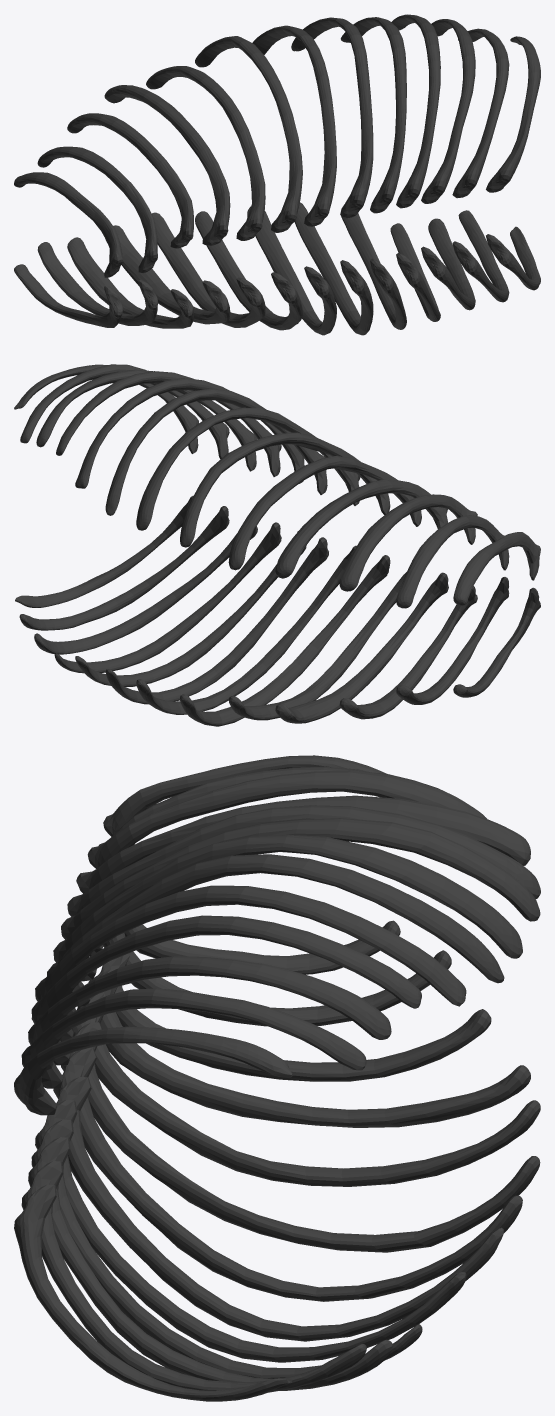
Rendered from 23_2_24_rib_cage_skin_resized_LP.glb.
3 renders of one model, top to bottom at view 1: azimuth 30°, elevation 25°; view 2: azimuth 150°, elevation 25°; view 3: azimuth 270°, elevation 25°, orthographic. The views are drawn at different scales.
Visible parts, largest first — view 1: 23_2_24_rib_cage_skin_resized_LP; view 2: 23_2_24_rib_cage_skin_resized_LP; view 3: 23_2_24_rib_cage_skin_resized_LP.
Boxes of the visible parts, x1,y1,x2,y2 form: 23_2_24_rib_cage_skin_resized_LP: [14, 14, 540, 335]; 23_2_24_rib_cage_skin_resized_LP: [14, 364, 540, 726]; 23_2_24_rib_cage_skin_resized_LP: [14, 755, 540, 1401].
Bounding box in the file's own units: 0.7344 × 0.4356 × 0.4333.
Materials: 1 (1 with a texture image).
